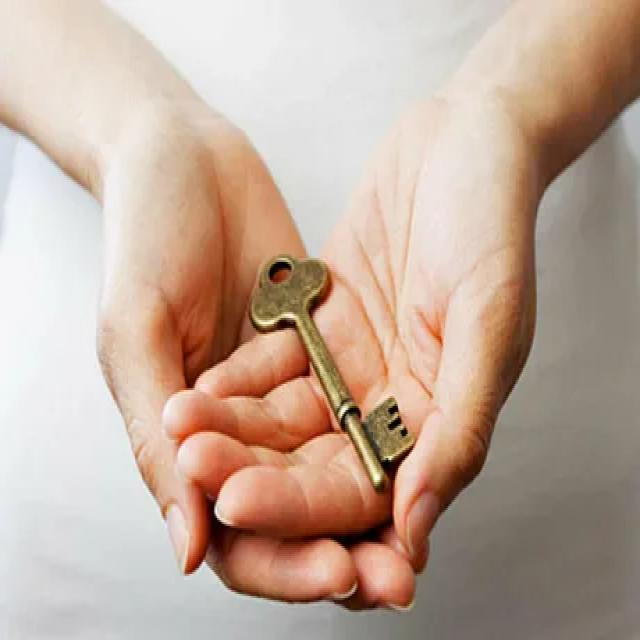key: (243, 242, 419, 496)
